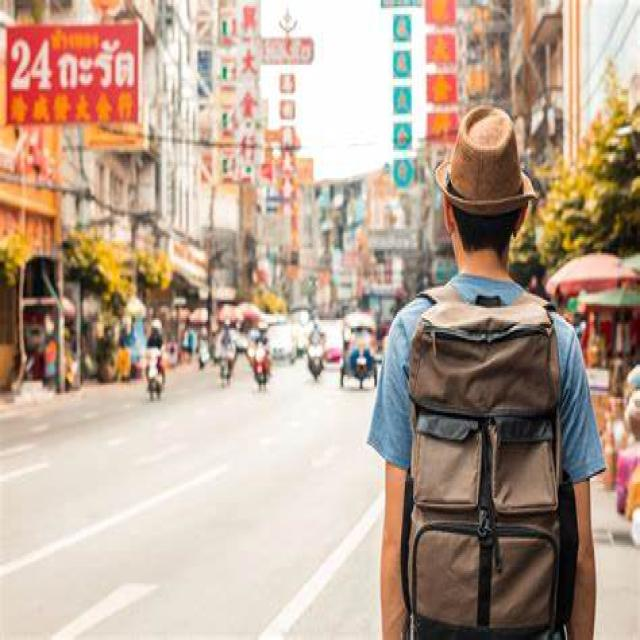illegal_helmet: (433, 100, 540, 274)
